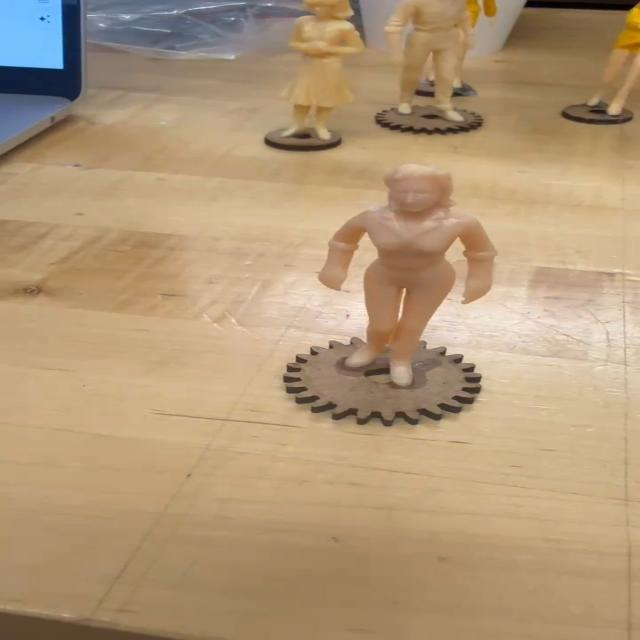Unauthorized: (300, 162, 507, 398)
